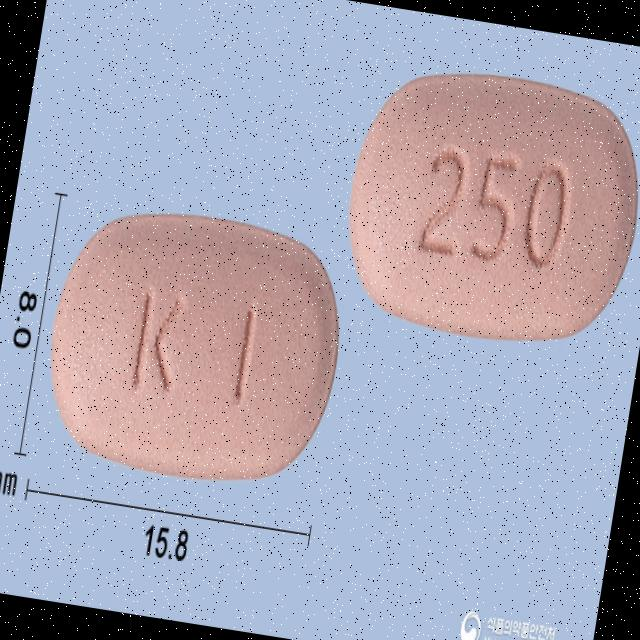Levogun: (32, 195, 358, 497), (333, 50, 640, 357)
